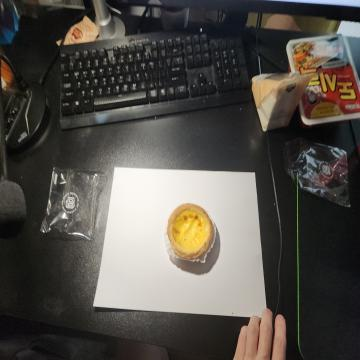EggTart: (167, 201, 214, 257)
